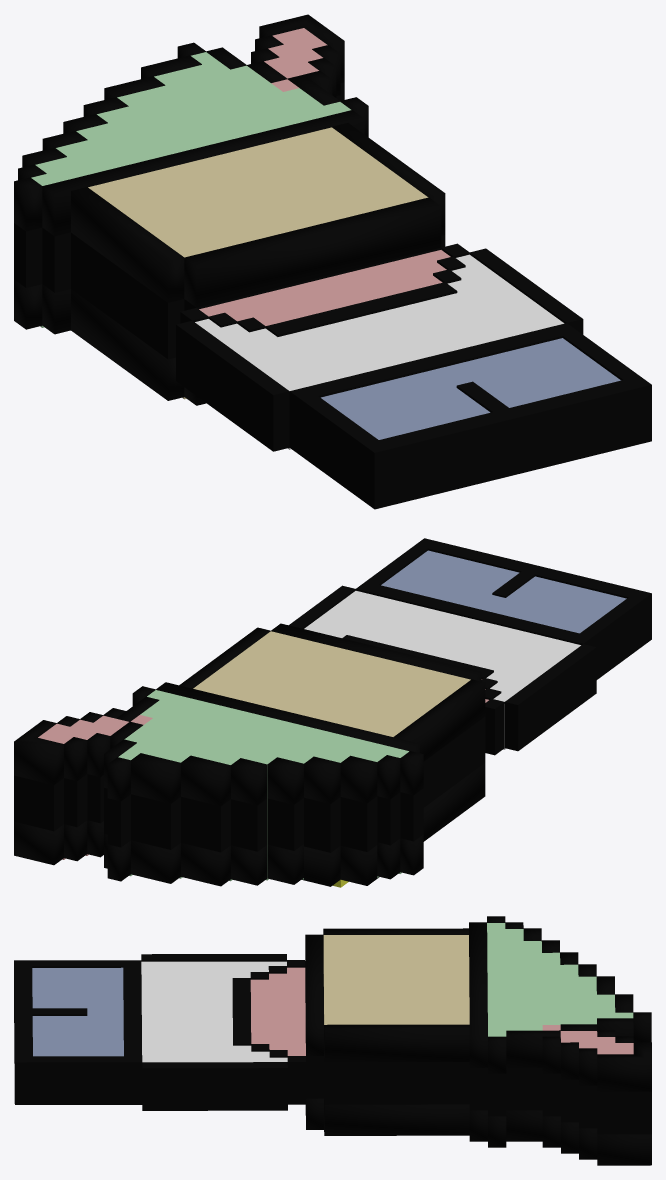
The model's file is ScoutUnit.fbx.
3 renders of one model, top to bottom at view 1: azimuth 30°, elevation 25°; view 2: azimuth 150°, elevation 25°; view 3: azimuth 270°, elevation 25°, orthographic. The views are drawn at different scales.
Visible parts, largest first — view 1: scarf, torso; view 2: scarf, torso; view 3: scarf, torso.
Boxes of the visible parts, x1,y1,x2,y2 form: scarf: [14, 14, 651, 509]; torso: [195, 254, 564, 449]; scarf: [14, 538, 651, 887]; torso: [304, 591, 580, 749]; scarf: [14, 916, 651, 1165]; torso: [141, 961, 287, 1062].
Bounding box in the file's own units: 64.74 × 24.56 × 121.
